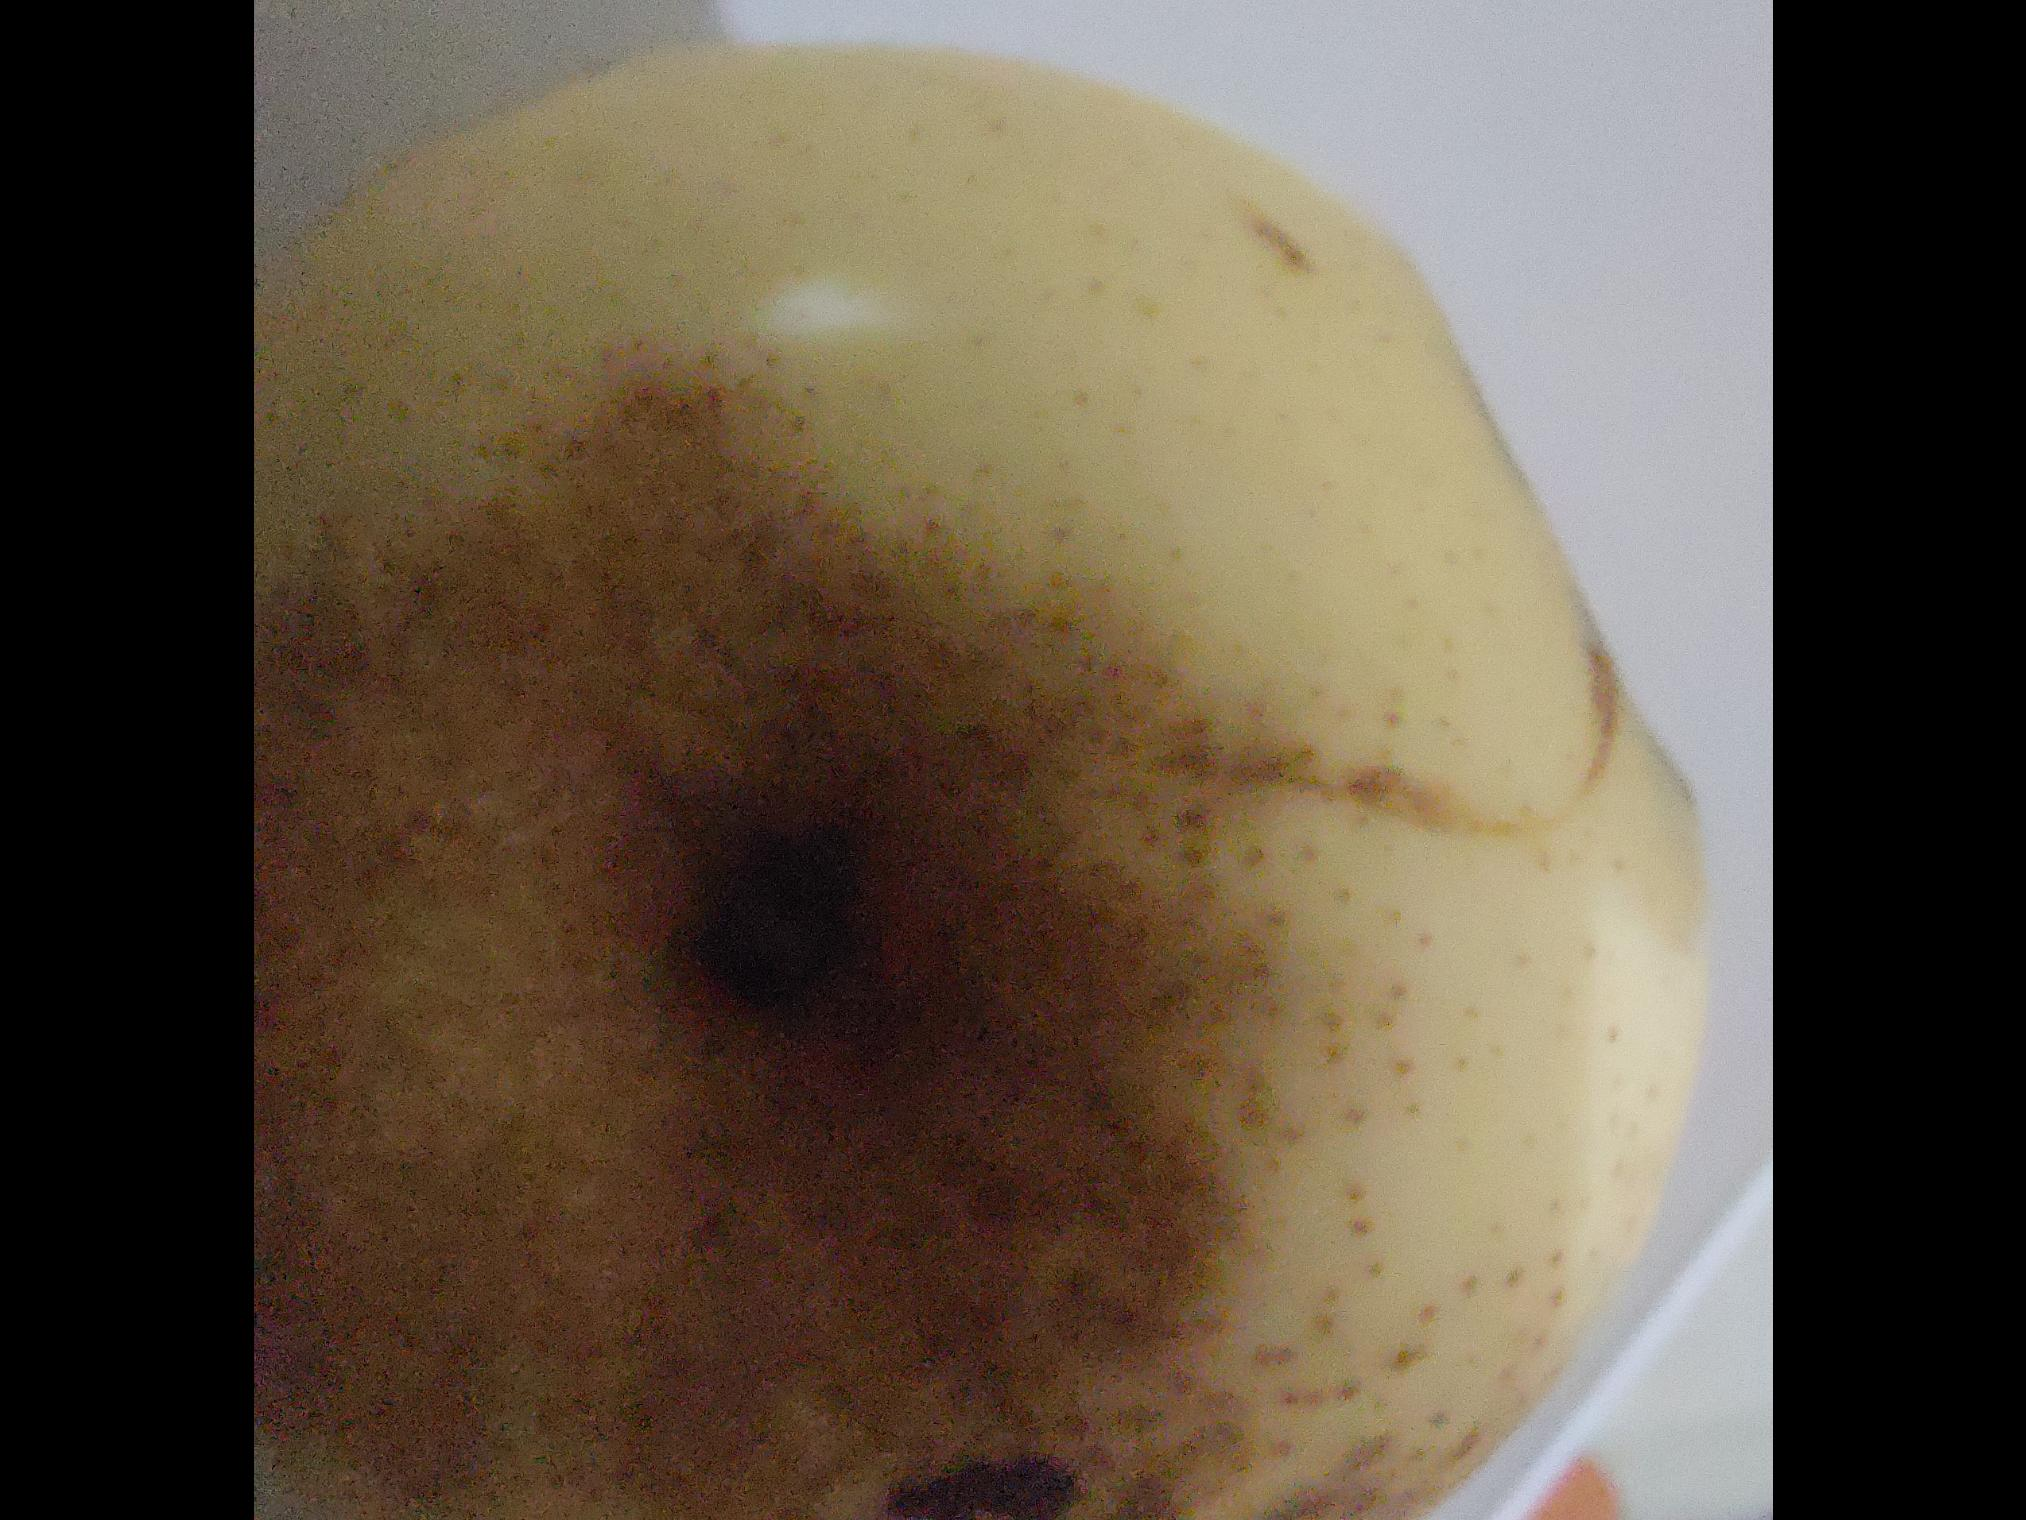Bad Pear: (252, 30, 1705, 1520)
